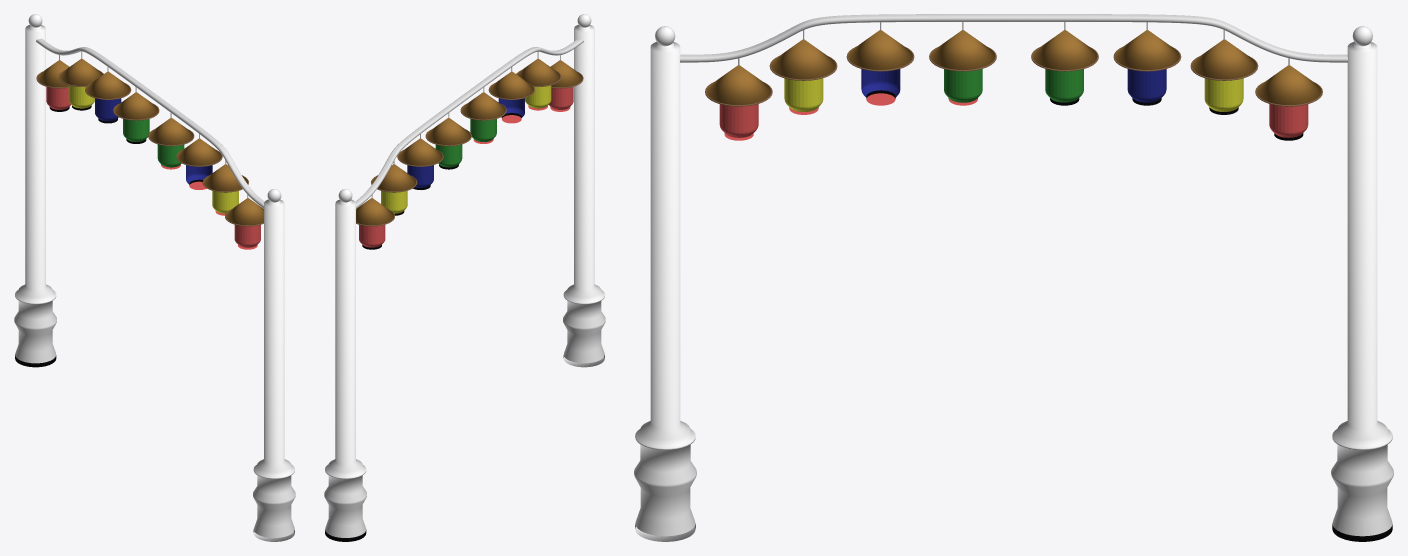
Rendered from lampion.glb.
3 views of the same model, side by side, from view 1: azimuth 30°, elevation 25°; view 2: azimuth 150°, elevation 25°; view 3: azimuth 270°, elevation 25° (orthographic). The views are drawn at different scales.
Parts seen in each view (by area): view 1: Cylinder.003, NurbsPath.001, NurbsPath; view 2: Cylinder.003, NurbsPath, NurbsPath.001; view 3: Cylinder.003, NurbsPath, NurbsPath.001.
Part boxes in pixels (left/top/right/bottom): Cylinder.003: left=14, top=14, right=295, bottom=541; NurbsPath.001: left=151, top=94, right=264, bottom=208; NurbsPath: left=36, top=38, right=155, bottom=97; Cylinder.003: left=324, top=14, right=605, bottom=541; NurbsPath: left=355, top=94, right=468, bottom=208; NurbsPath.001: left=464, top=38, right=583, bottom=97; Cylinder.003: left=634, top=26, right=1393, bottom=541; NurbsPath: left=1014, top=14, right=1347, bottom=62; NurbsPath.001: left=680, top=14, right=1013, bottom=62.
Bounding box in the file's own units: 2.71 × 22.63 × 30.37.
